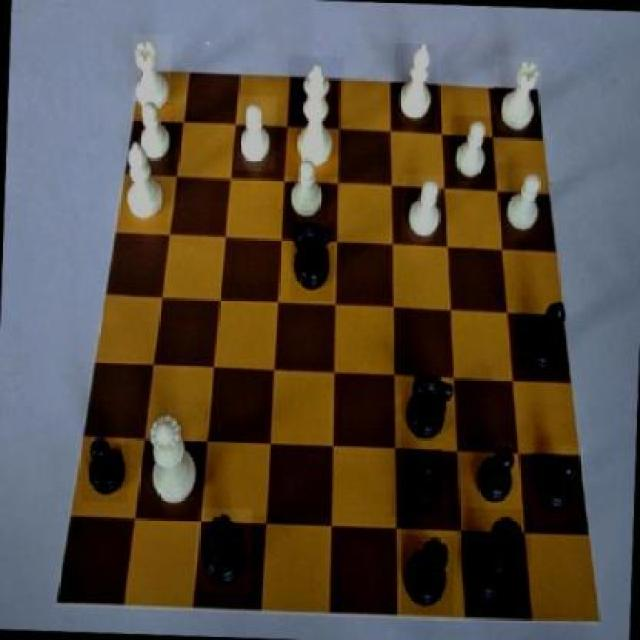bishop: (512, 296, 570, 382)
black-bishop: (462, 508, 532, 612)
black-king: (398, 365, 456, 447), (291, 220, 335, 301)
black-knight: (528, 445, 584, 527), (472, 439, 520, 516), (392, 448, 442, 518), (80, 435, 130, 503)
black-queen: (194, 508, 253, 594), (398, 534, 454, 614)
black-rook: (118, 140, 168, 228), (392, 43, 437, 128)
white-bishop: (284, 55, 344, 178)
white-knight: (234, 96, 278, 172), (129, 100, 176, 169), (449, 114, 497, 181), (502, 168, 546, 240), (288, 149, 330, 223), (400, 174, 444, 244)
white-pawn: (138, 405, 204, 520)
white-queen: (492, 55, 542, 133), (129, 34, 172, 114)
